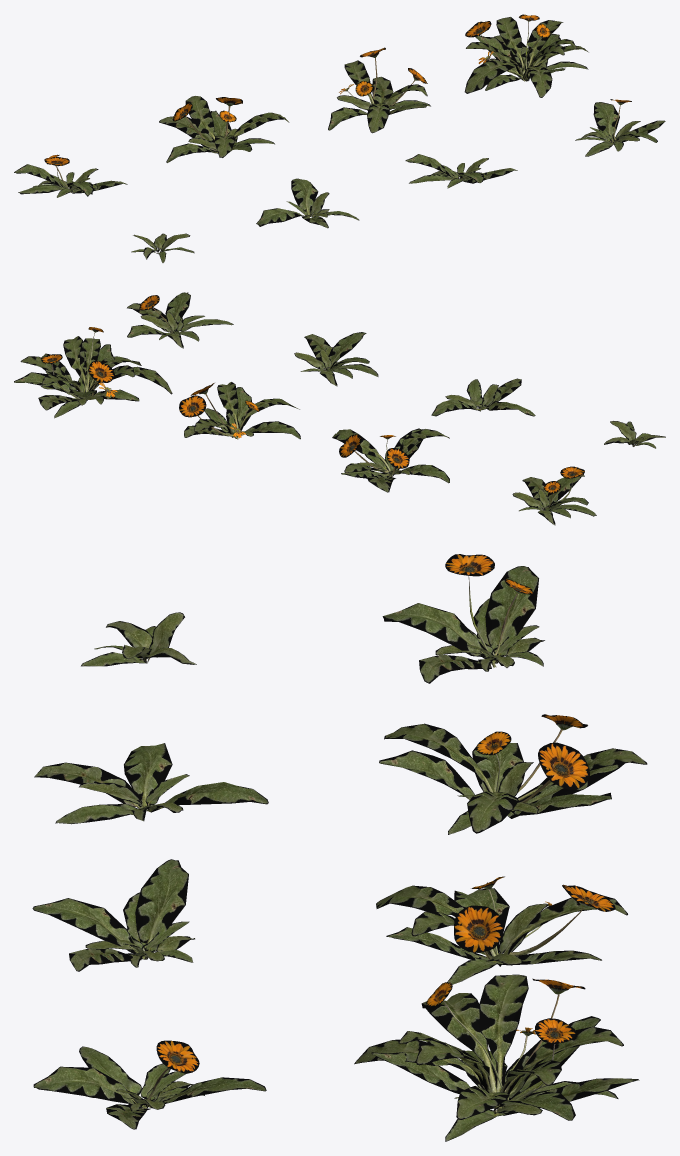
File: flower_gazania.glb
3 views of the same model, one above another, from view 1: azimuth 30°, elevation 25°; view 2: azimuth 150°, elevation 25°; view 3: azimuth 270°, elevation 25° (orthographic). The views are drawn at different scales.
Parts seen in each view (by area): view 1: flower_gazania_h_LOD0, flower_gazania_f_LOD0, flower_gazania_g_LOD0, flower_gazania_d_LOD0, flower_gazania_b_LOD0, flower_gazania_e_LOD0, flower_gazania_c_LOD0, flower_gazania_a_LOD0; view 2: flower_gazania_h_LOD0, flower_gazania_g_LOD0, flower_gazania_f_LOD0, flower_gazania_d_LOD0, flower_gazania_e_LOD0, flower_gazania_c_LOD0, flower_gazania_b_LOD0, flower_gazania_a_LOD0; view 3: flower_gazania_h_LOD0, flower_gazania_f_LOD0, flower_gazania_g_LOD0, flower_gazania_e_LOD0, flower_gazania_c_LOD0, flower_gazania_d_LOD0, flower_gazania_b_LOD0, flower_gazania_a_LOD0.
Boxes of the visible parts, x1,y1,x2,y2 form: flower_gazania_h_LOD0: [464, 14, 588, 97]; flower_gazania_f_LOD0: [159, 96, 289, 162]; flower_gazania_g_LOD0: [328, 47, 430, 133]; flower_gazania_d_LOD0: [575, 99, 665, 156]; flower_gazania_b_LOD0: [256, 178, 359, 228]; flower_gazania_e_LOD0: [14, 154, 127, 197]; flower_gazania_c_LOD0: [405, 154, 517, 188]; flower_gazania_a_LOD0: [131, 233, 194, 262]; flower_gazania_h_LOD0: [14, 327, 172, 418]; flower_gazania_g_LOD0: [179, 382, 300, 439]; flower_gazania_f_LOD0: [332, 428, 449, 492]; flower_gazania_d_LOD0: [127, 292, 233, 348]; flower_gazania_e_LOD0: [512, 466, 596, 525]; flower_gazania_c_LOD0: [294, 332, 378, 386]; flower_gazania_b_LOD0: [431, 378, 535, 416]; flower_gazania_a_LOD0: [604, 421, 665, 448]; flower_gazania_h_LOD0: [354, 974, 639, 1141]; flower_gazania_f_LOD0: [379, 714, 647, 834]; flower_gazania_g_LOD0: [376, 876, 627, 984]; flower_gazania_e_LOD0: [382, 554, 544, 683]; flower_gazania_c_LOD0: [32, 859, 194, 971]; flower_gazania_d_LOD0: [33, 1040, 266, 1129]; flower_gazania_b_LOD0: [34, 743, 268, 824]; flower_gazania_a_LOD0: [81, 612, 196, 666].
Size of the model in its own units: 1.48 by 0.1655 by 0.7028.
Materials: 1 (1 with a texture image).
